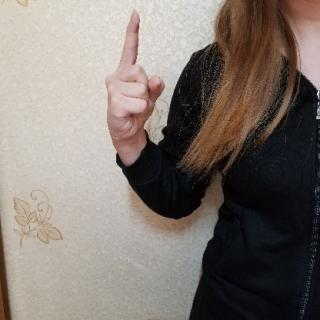RAA: (95, 5, 168, 157)
